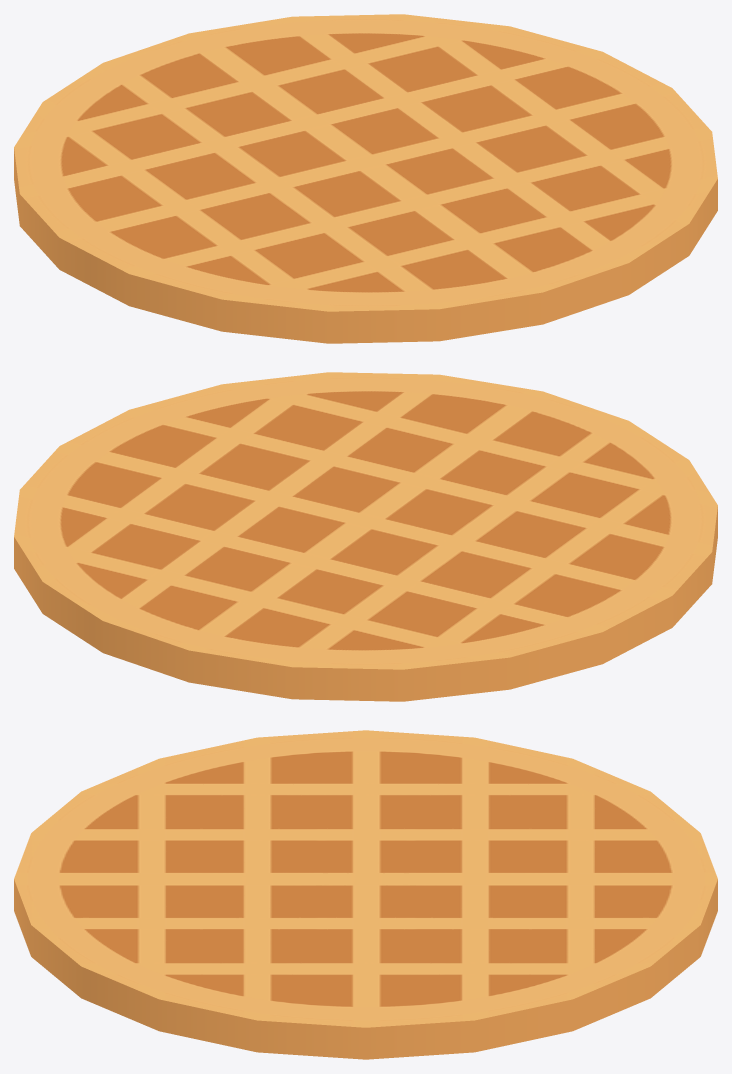
File: Waffle_Slice_Waffle_0.glb
The picture shows the model from 3 angles, top to bottom: view 1: azimuth 30°, elevation 25°; view 2: azimuth 150°, elevation 25°; view 3: azimuth 270°, elevation 25°; orthographic projection.
Parts seen in each view (by area): view 1: Waffle_Slice_Waffle_0; view 2: Waffle_Slice_Waffle_0; view 3: Waffle_Slice_Waffle_0.
Boxes of the visible parts, x1,y1,x2,y2 form: Waffle_Slice_Waffle_0: (14,14,717,343); Waffle_Slice_Waffle_0: (14,372,717,701); Waffle_Slice_Waffle_0: (14,730,717,1059).
Bounding box in the file's own units: 0.2 × 0.01 × 0.2.
1 material, 1 textured.
